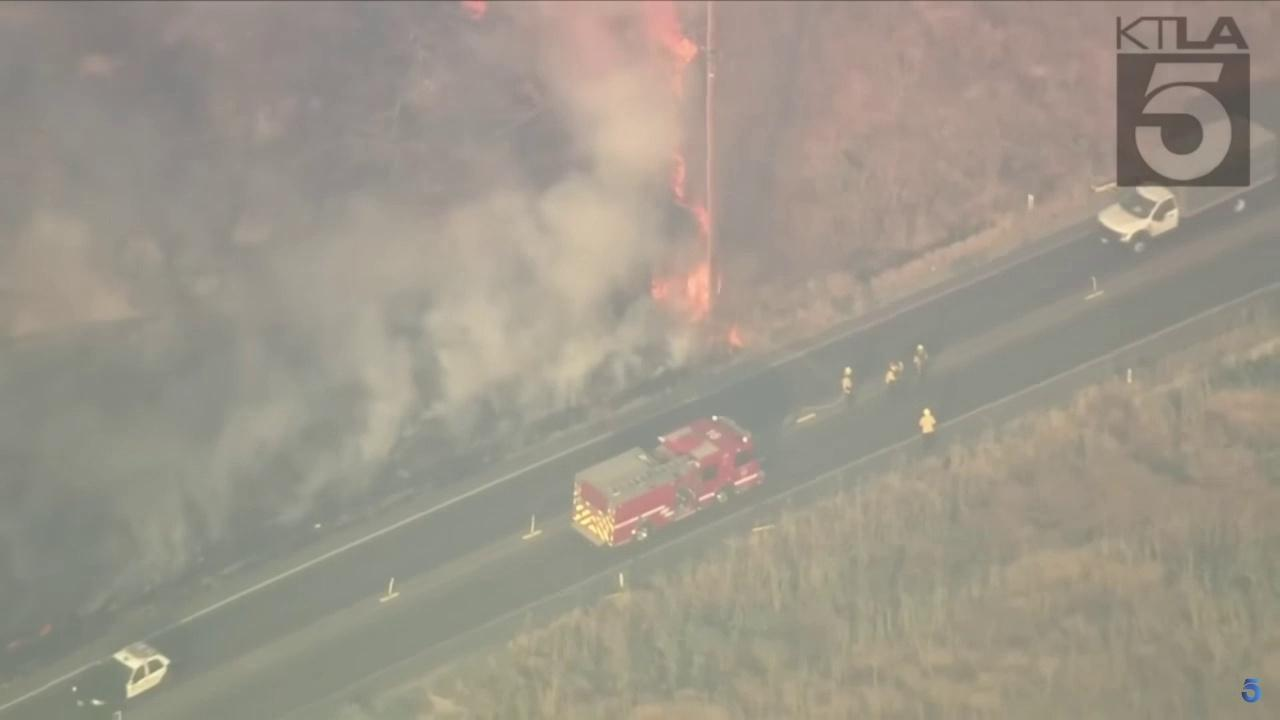fire: (646, 145, 722, 327), (638, 1, 700, 106), (457, 0, 490, 22), (727, 321, 747, 352), (38, 622, 56, 638)
smoke: (0, 0, 714, 613)
